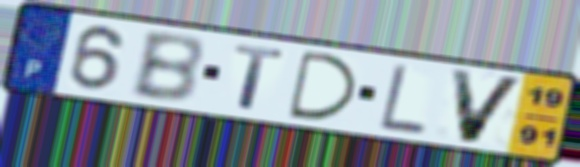6: (68, 23, 129, 93)
B: (127, 30, 207, 105)
D: (285, 48, 361, 123)
L: (376, 61, 429, 138)
T: (230, 42, 289, 113)
V: (446, 66, 529, 146)
